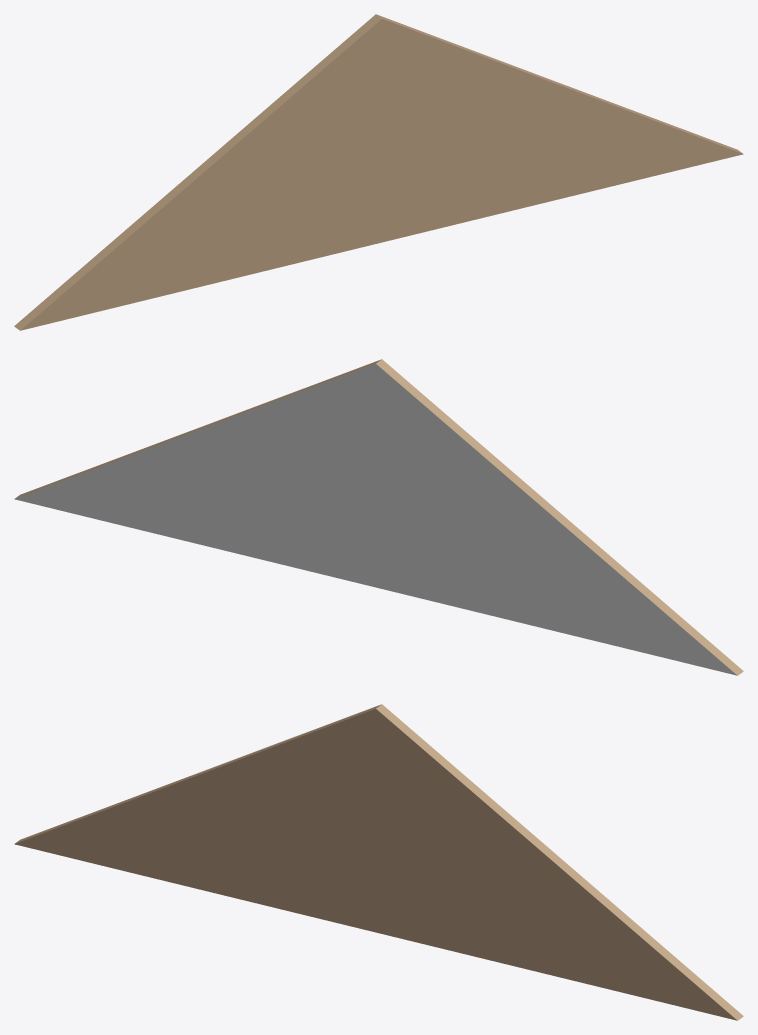
Rendered from Wall1_C2_20.fbx.
The picture shows the model from 3 angles, top to bottom: view 1: azimuth 30°, elevation 25°; view 2: azimuth 150°, elevation 25°; view 3: azimuth 330°, elevation 25°; orthographic projection.
Parts seen in each view (by area): view 1: Wall1_C2_20; view 2: Wall1_C2_20; view 3: Wall1_C2_20.
Part boxes in pixels (left/top/right/bottom): Wall1_C2_20: left=14, top=14, right=743, bottom=330; Wall1_C2_20: left=14, top=359, right=743, bottom=675; Wall1_C2_20: left=14, top=704, right=743, bottom=1020.
Size of the model in its own units: 1015 by 300 by 15.
